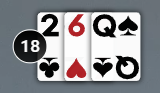2: (37, 12, 63, 39)
6: (62, 11, 91, 39)
q: (90, 11, 119, 40)
